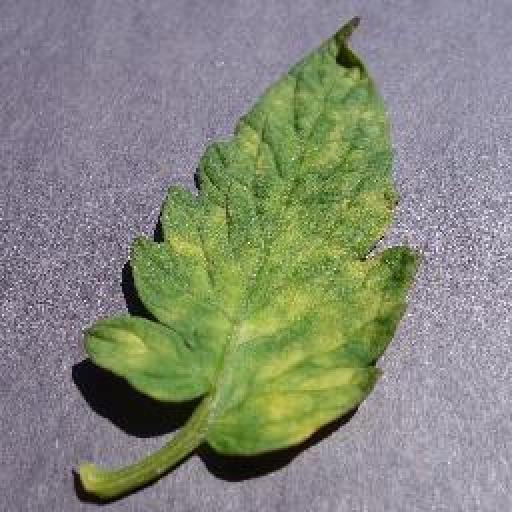disease_tomato: (80, 12, 423, 457)
